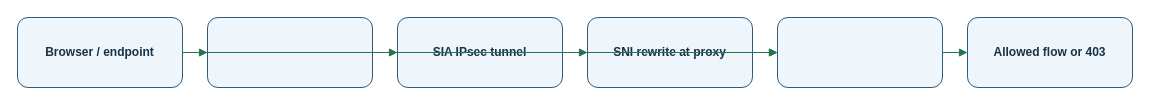
Some shapes in this 1150 by 105 pixel diagram are drawn without their labels. Each missing label, with the centre of its shape:
FortiSASE domain-fronting gate: the point at 859,52
PAC explicit proxy :9443: the point at 289,52
